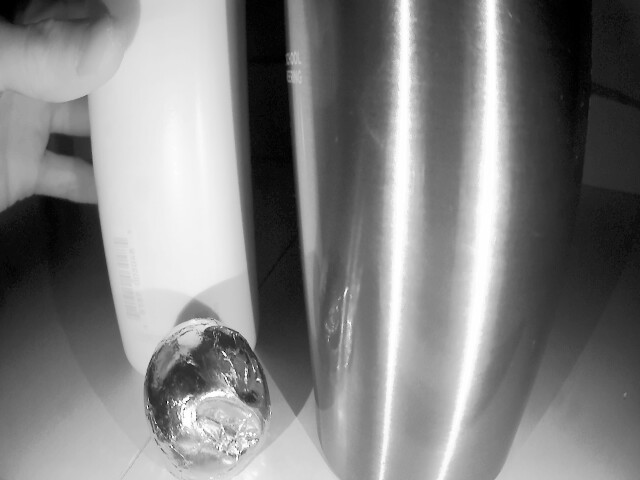black: (144, 313, 286, 480)
